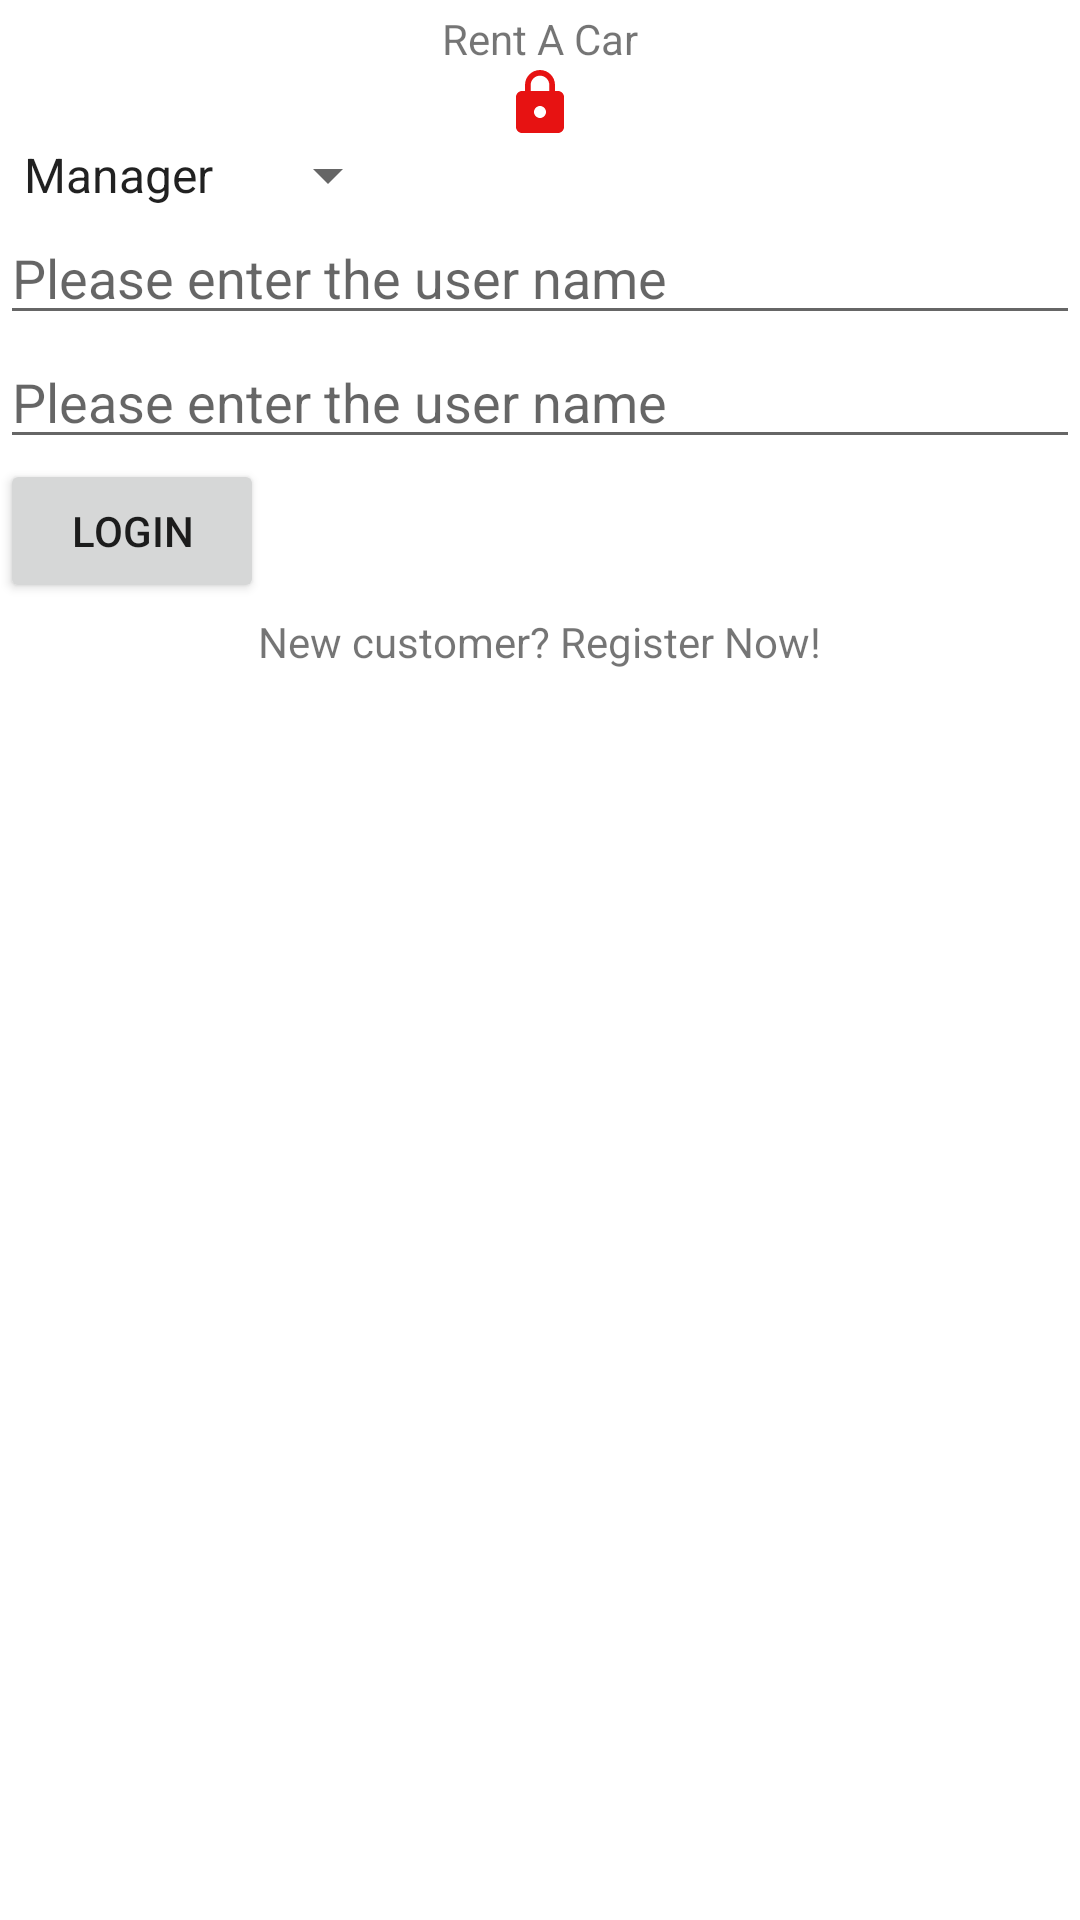

Locate icon controls on the screen. Image size 1080 × 1920, boxes as bbox=(x1, y1, x2, y2).
lock: bbox=(516, 70, 564, 133)
